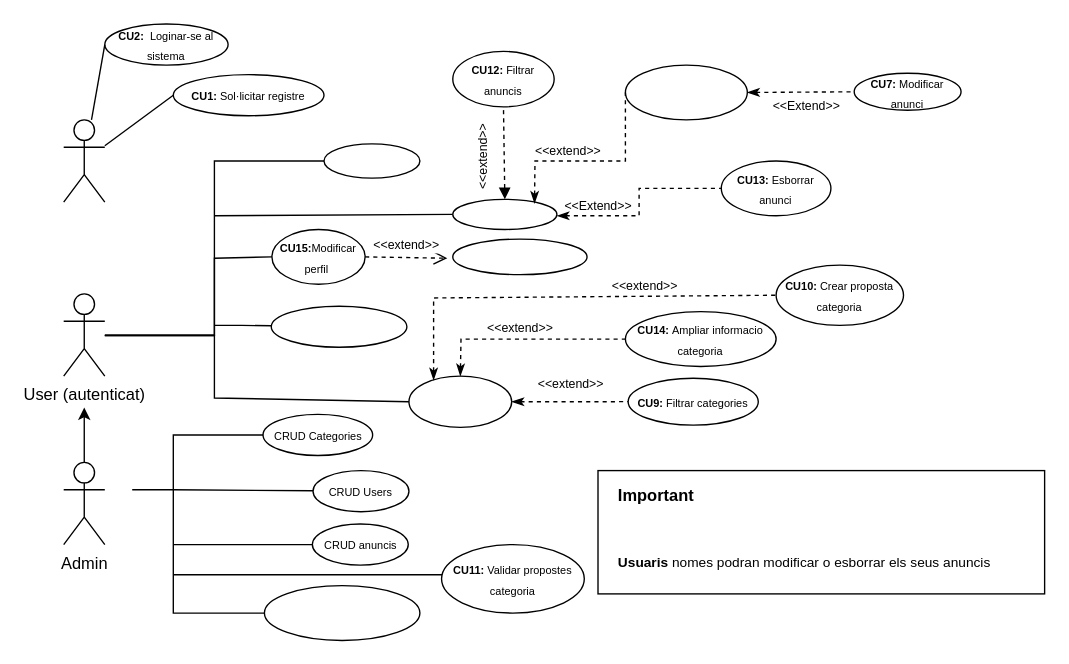
Some shapes in this 1069 by 664 pixel diagram are drawn without their labels. Each missing label, with the centre of its shape:
CU16: Reset password: pixel 519 256
CU17: Validar registres de clients: pixel 341 612
CU3: Recuperar contrasenya: pixel 338 326
CU4: Crear Anunci: pixel 371 160
CU5: Veure anuncis: pixel 504 213
CU6: Ampliar informacio anunci: pixel 685 92
CU8: Veure categories: pixel 460 401
User (anonim): pixel 83 160
